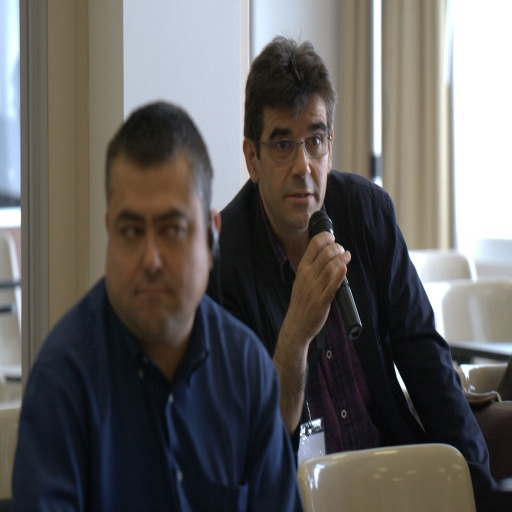hand: (285, 217, 351, 343)
